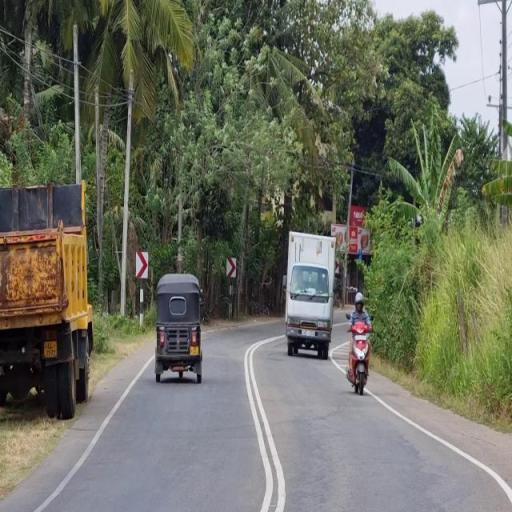double_white_line: (242, 334, 288, 512)
